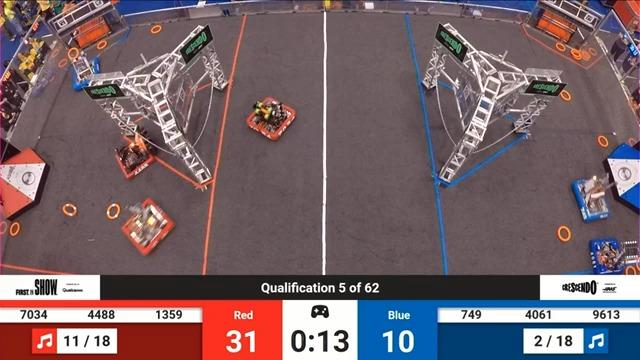robot: (242, 90, 304, 152), (122, 198, 176, 257), (567, 165, 617, 226), (585, 233, 629, 276), (64, 53, 107, 88)
